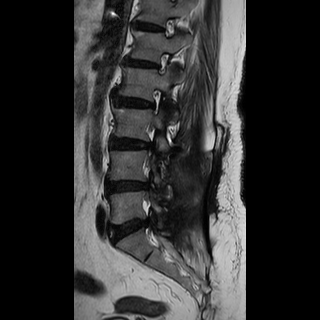LFS0: (139, 84, 170, 120), (147, 48, 178, 81)
